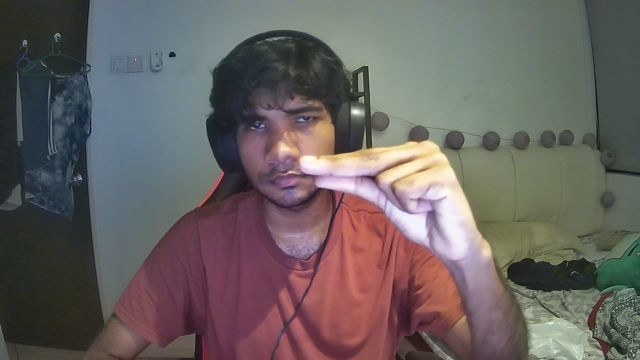No: (296, 132, 497, 261)
